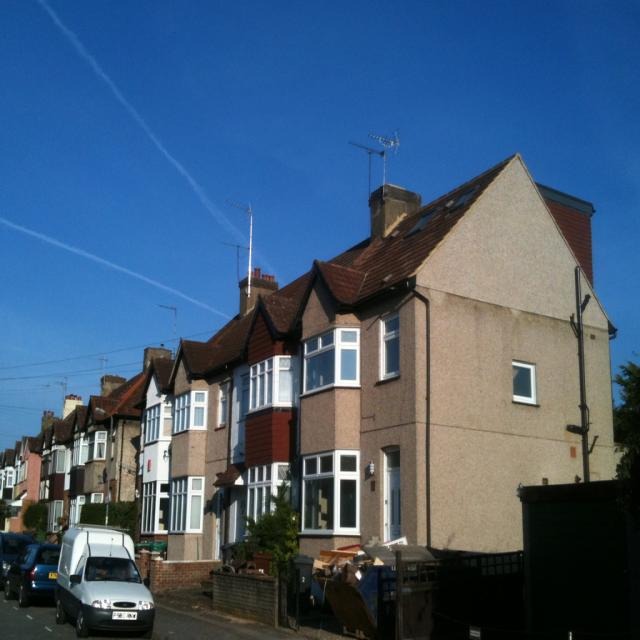car: (51, 535, 140, 633)
